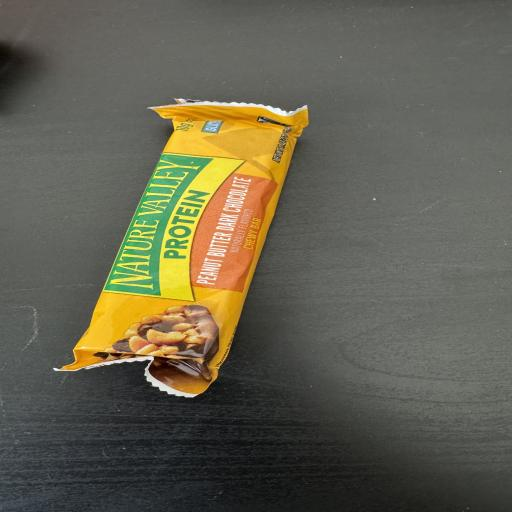granola: (63, 100, 307, 396)
